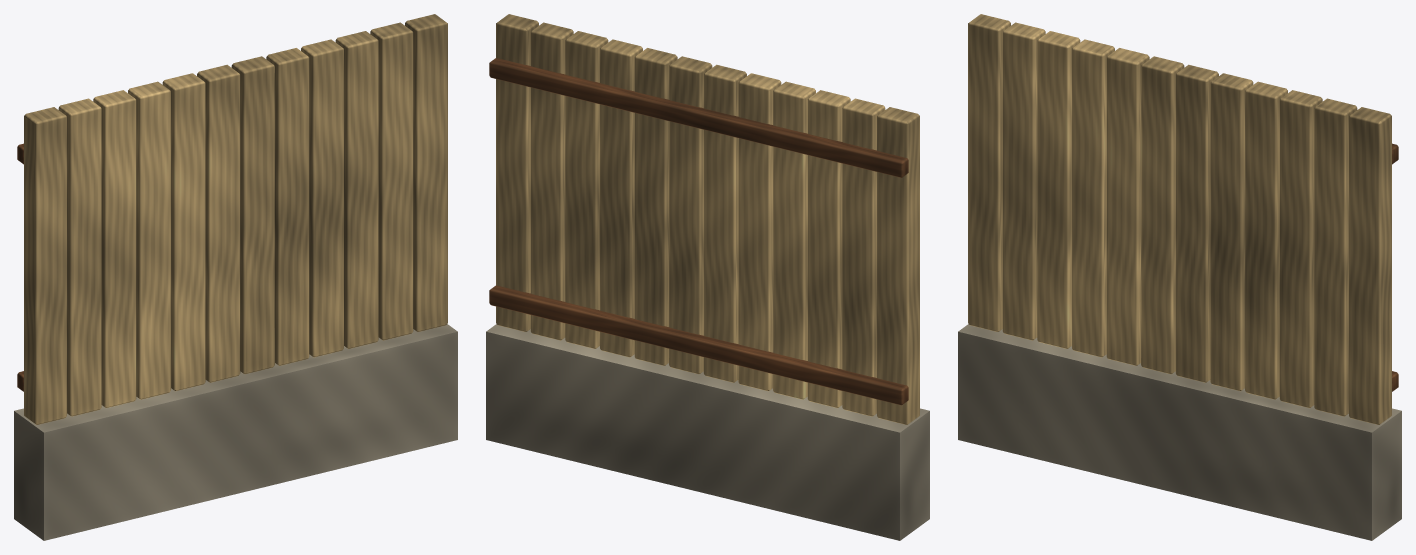
Rendered from Furn_Spa_Fence.fbx.
3 renders of one model, left to right at view 1: azimuth 30°, elevation 25°; view 2: azimuth 150°, elevation 25°; view 3: azimuth 330°, elevation 25°, orthographic.
Parts seen in each view (by area): view 1: Furn_Spa_Fence; view 2: Furn_Spa_Fence; view 3: Furn_Spa_Fence.
Part boxes in pixels (bbox=[...]): Furn_Spa_Fence: bbox=[14, 14, 457, 540]; Furn_Spa_Fence: bbox=[486, 14, 929, 540]; Furn_Spa_Fence: bbox=[958, 14, 1401, 540].
Bounding box in the file's own units: 2 × 1.9 × 0.25.
3 materials, 3 textured.
